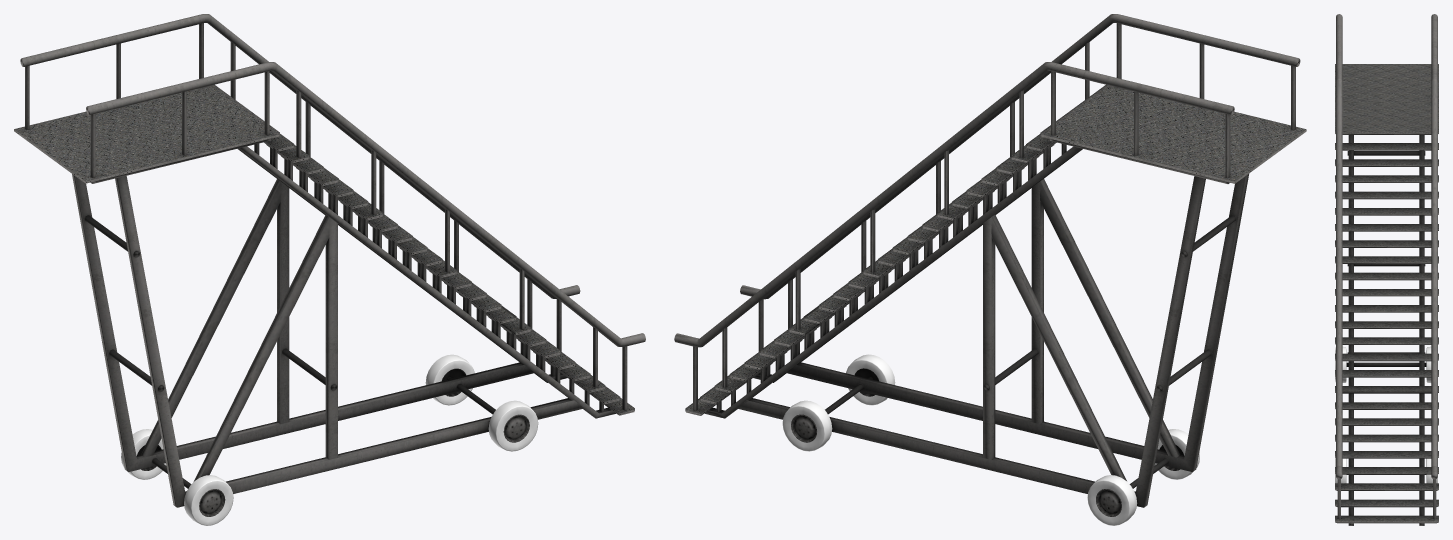
File: rettungstreppe.fbx
3 views of the same model, side by side, from view 1: azimuth 30°, elevation 25°; view 2: azimuth 150°, elevation 25°; view 3: azimuth 270°, elevation 25° (orthographic). The views are drawn at different scales.
Parts seen in each view (by area): view 1: Mesh; view 2: Mesh; view 3: Mesh.
Part boxes in pixels (x1=…): Mesh: x1=14, y1=14, x2=645, y2=525; Mesh: x1=674, y1=14, x2=1306, y2=525; Mesh: x1=1335, y1=14, x2=1438, y2=525.
Bounding box in the file's own units: 736 × 561 × 163.
